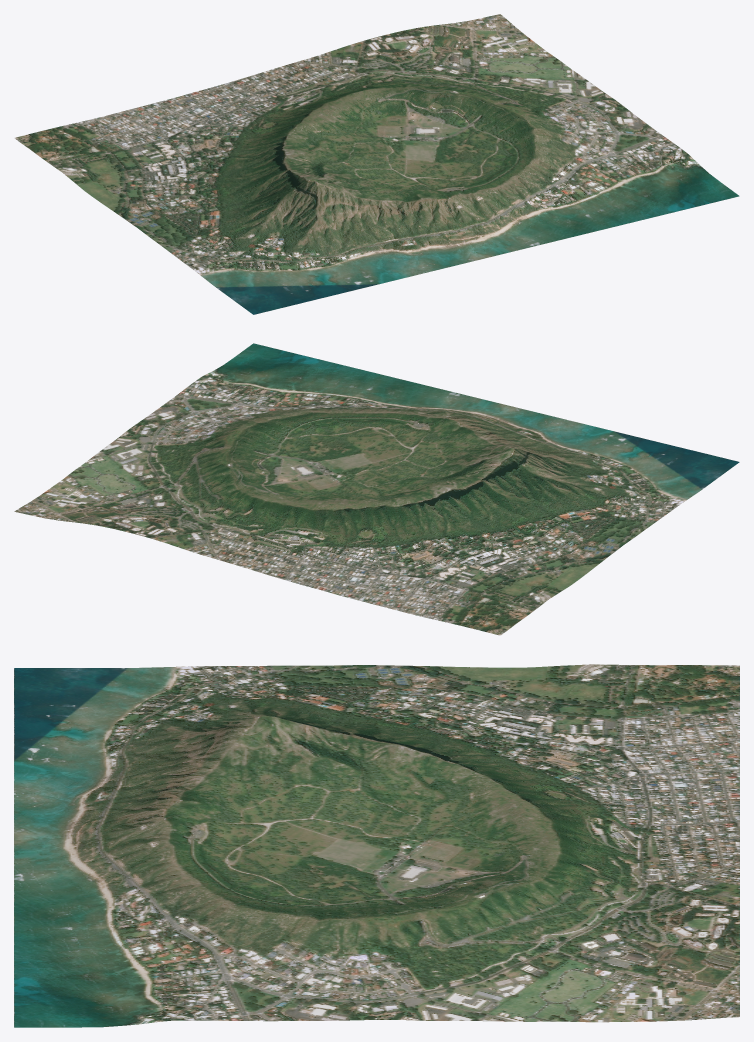
The picture shows the model from 3 angles, top to bottom: view 1: azimuth 30°, elevation 25°; view 2: azimuth 150°, elevation 25°; view 3: azimuth 270°, elevation 25°; orthographic projection. The views are drawn at different scales.
Visible parts, largest first — view 1: Object_2; view 2: Object_2; view 3: Object_2.
Boxes of the visible parts, bbox=[...] form: Object_2: bbox=[14, 14, 739, 314]; Object_2: bbox=[14, 343, 739, 635]; Object_2: bbox=[14, 664, 739, 1027].
Size of the model in its own units: 2599 by 199 by 2217.
1 material, 1 textured.
